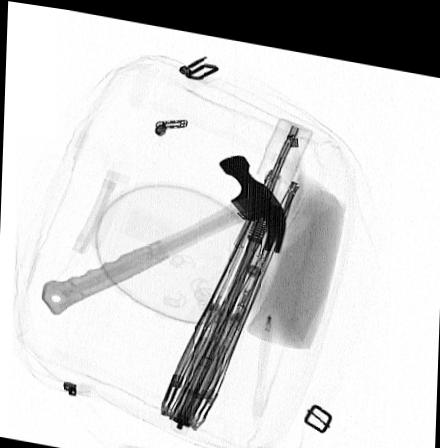Hammer: (39, 146, 286, 313)
